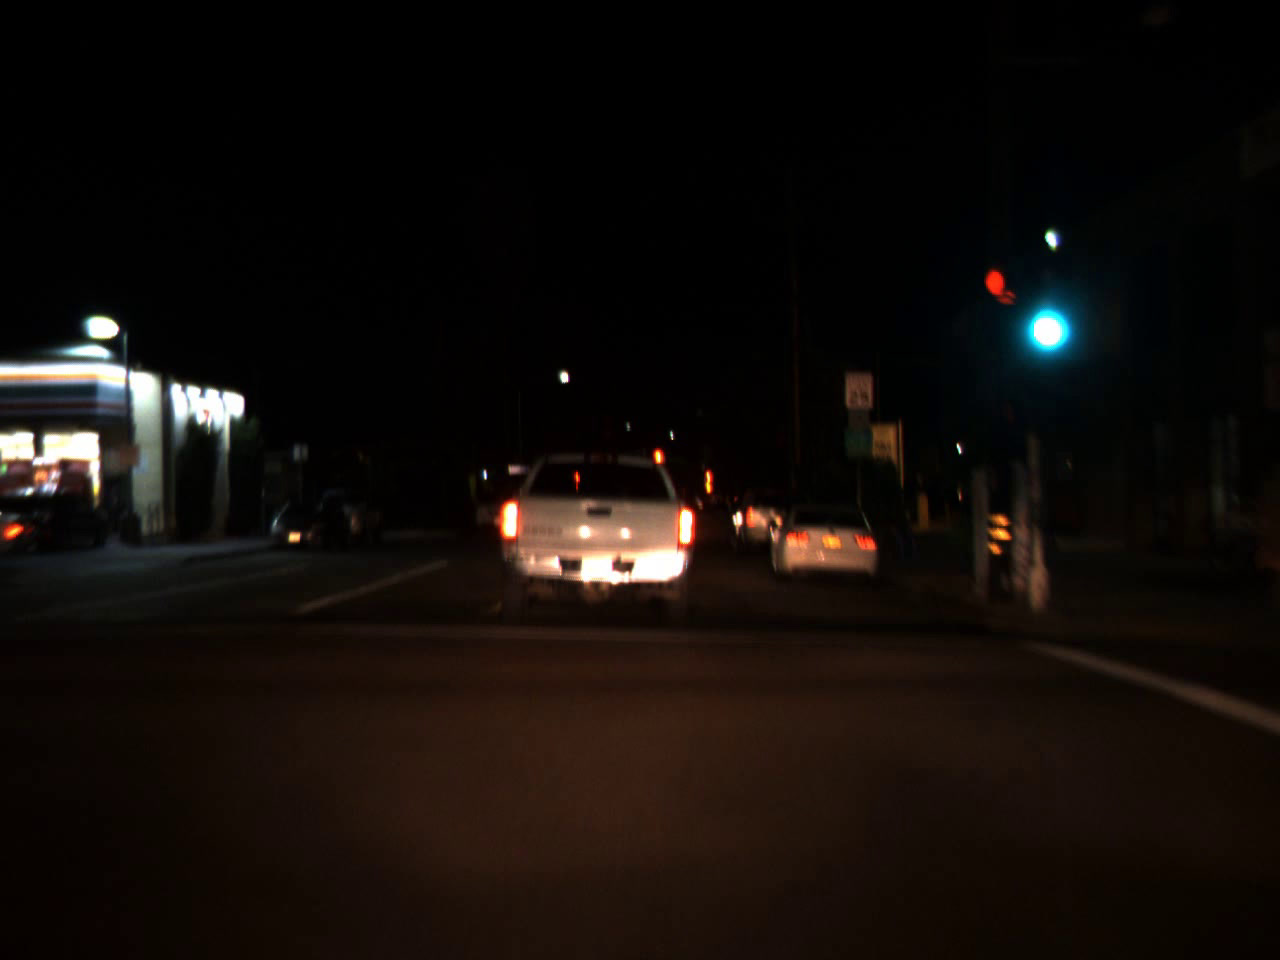go: (1020, 277, 1070, 358)
stop: (652, 449, 664, 476), (703, 469, 713, 498)
